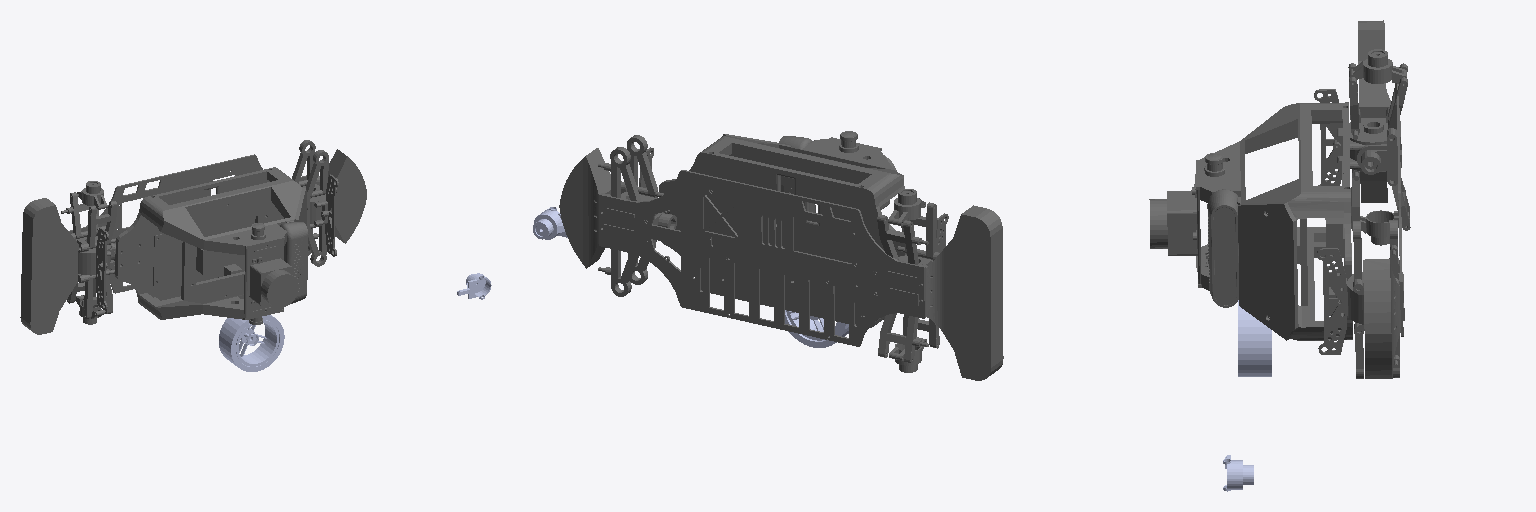
The robot description file, URDF, robot "vehicle_model":
<?xml version="1.0" encoding="utf-8"?>
<!-- This URDF was automatically created by SolidWorks to URDF Exporter! Originally created by [author] ([email redacted]) 
     Commit Version: 1.6.0-4-g7f85cfe  Build Version: 1.6.7995.38578
     For more information, please see http://wiki.ros.org/sw_urdf_exporter -->
<robot
  name="vehicle_model">
  <link
    name="base_link">
    <inertial>
      <origin
        xyz="-0.014373 0.0003891 0.017384"
        rpy="0 0 0" />
      <mass
        value="0.91719" />
      <inertia
        ixx="0.0006622"
        ixy="-2.7497E-06"
        ixz="1.2902E-05"
        iyy="0.0014944"
        iyz="3.6626E-07"
        izz="0.0018197" />
    </inertial>
    <visual>
      <origin
        xyz="0 0 0"
        rpy="0 0 0" />
      <geometry>
        <mesh
          filename="package://vehicle_model/meshes/base_link.STL" />
      </geometry>
      <material
        name="">
        <color
          rgba="0.47059 0.47059 0.47059 1" />
      </material>
    </visual>
    <collision>
      <origin
        xyz="0 0 0"
        rpy="0 0 0" />
      <geometry>
        <mesh
          filename="package://vehicle_model/meshes/base_link.STL" />
      </geometry>
    </collision>
  </link>
  <link
    name="back_wheel_left">
    <inertial>
      <origin
        xyz="1.1102E-16 -0.0055555 3.6969E-08"
        rpy="0 0 0" />
      <mass
        value="0.038543" />
      <inertia
        ixx="1.5832E-05"
        ixy="-1.9172E-21"
        ixz="2.1838E-21"
        iyy="2.7611E-05"
        iyz="-7.8379E-11"
        izz="1.5832E-05" />
    </inertial>
    <visual>
      <origin
        xyz="0 0 0"
        rpy="0 0 0" />
      <geometry>
        <mesh
          filename="package://vehicle_model/meshes/back_wheel_left.STL" />
      </geometry>
      <material
        name="">
        <color
          rgba="0.79216 0.81961 0.93333 1" />
      </material>
    </visual>
    <collision>
      <origin
        xyz="0 0 0"
        rpy="0 0 0" />
      <geometry>
        <mesh
          filename="package://vehicle_model/meshes/back_wheel_left.STL" />
      </geometry>
    </collision>
  </link>
  <joint
    name="joint_back_wheel_left"
    type="continuous">
    <origin
      xyz="-0.12828 0.083987 -0.02714"
      rpy="0 0 0" />
    <parent
      link="base_link" />
    <child
      link="back_wheel_left" />
    <axis
      xyz="0 1 0" />
    <limit
      effort="100"
      velocity="100" />
    <dynamics
      damping="0.1"
      friction="0.1" />
  </joint>
  <link
    name="back_wheel_right">
    <inertial>
      <origin
        xyz="5.5511E-17 0.0055555 3.6691E-08"
        rpy="0 0 0" />
      <mass
        value="0.038543" />
      <inertia
        ixx="1.5832E-05"
        ixy="-5.5769E-21"
        ixz="1.8661E-21"
        iyy="2.7611E-05"
        iyz="7.7791E-11"
        izz="1.5832E-05" />
    </inertial>
    <visual>
      <origin
        xyz="0 0 0"
        rpy="0 0 0" />
      <geometry>
        <mesh
          filename="package://vehicle_model/meshes/back_wheel_right.STL" />
      </geometry>
      <material
        name="">
        <color
          rgba="0.79216 0.81961 0.93333 1" />
      </material>
    </visual>
    <collision>
      <origin
        xyz="0 0 0"
        rpy="0 0 0" />
      <geometry>
        <mesh
          filename="package://vehicle_model/meshes/back_wheel_right.STL" />
      </geometry>
    </collision>
  </link>
  <joint
    name="joint_back_wheel_right"
    type="continuous">
    <origin
      xyz="-0.12828 -0.08197 -0.02714"
      rpy="0 0 0" />
    <parent
      link="base_link" />
    <child
      link="back_wheel_right" />
    <axis
      xyz="0 1 0" />
    <limit
      effort="100"
      velocity="100" />
    <dynamics
      damping="0.1"
      friction="0.1" />
  </joint>
  <link
    name="front_handle_left">
    <inertial>
      <origin
        xyz="-0.003022 0.0098208 -0.010918"
        rpy="0 0 0" />
      <mass
        value="0.0035804" />
      <inertia
        ixx="2.2725E-07"
        ixy="-8.8041E-08"
        ixz="-2.6452E-13"
        iyy="3.3018E-07"
        iyz="7.2923E-14"
        izz="3.6051E-07" />
    </inertial>
    <visual>
      <origin
        xyz="0 0 0"
        rpy="0 0 0" />
      <geometry>
        <mesh
          filename="package://vehicle_model/meshes/front_handle_left.STL" />
      </geometry>
      <material
        name="">
        <color
          rgba="0.79216 0.81961 0.93333 1" />
      </material>
    </visual>
    <collision>
      <origin
        xyz="0 0 0"
        rpy="0 0 0" />
      <geometry>
        <mesh
          filename="package://vehicle_model/meshes/front_handle_left.STL" />
      </geometry>
    </collision>
  </link>
  <joint
    name="joint_front_handle_left"
    type="revolute">
    <origin
      xyz="0.13072 0.057509 -0.010582"
      rpy="0 0 0" />
    <parent
      link="base_link" />
    <child
      link="front_handle_left" />
    <axis
      xyz="0 0 1" />
    <limit
      lower="-0.87267"
      upper="0.87267"
      effort="100"
      velocity="100" />
    <dynamics
      damping="0.1"
      friction="0.1" />
  </joint>
  <link
    name="front_wheel_left">
    <inertial>
      <origin
        xyz="1.6914E-17 -0.0064834 2.7756E-16"
        rpy="0 0 0" />
      <mass
        value="0.063174" />
      <inertia
        ixx="3.6075E-05"
        ixy="-7.3809E-21"
        ixz="-3.1764E-22"
        iyy="6.2912E-05"
        iyz="3.9705E-21"
        izz="3.6075E-05" />
    </inertial>
    <visual>
      <origin
        xyz="0 0 0"
        rpy="0 0 0" />
      <geometry>
        <mesh
          filename="package://vehicle_model/meshes/front_wheel_left.STL" />
      </geometry>
      <material
        name="">
        <color
          rgba="0.79216 0.81961 0.93333 1" />
      </material>
    </visual>
    <collision>
      <origin
        xyz="0 0 0"
        rpy="0 0 0" />
      <geometry>
        <mesh
          filename="package://vehicle_model/meshes/front_wheel_left.STL" />
      </geometry>
    </collision>
  </link>
  <joint
    name="joint_front_wheel_left"
    type="continuous">
    <origin
      xyz="0 0.026485 -0.010918"
      rpy="0 0 0" />
    <parent
      link="front_handle_left" />
    <child
      link="front_wheel_left" />
    <axis
      xyz="0 1 0" />
    <limit
      effort="100"
      velocity="100" />
    <dynamics
      damping="0.1"
      friction="0.1" />
  </joint>
  <link
    name="front_handle_right">
    <inertial>
      <origin
        xyz="-0.0030221 -0.0098209 -0.010918"
        rpy="0 0 0" />
      <mass
        value="0.0035804" />
      <inertia
        ixx="2.2725E-07"
        ixy="8.8041E-08"
        ixz="2.8912E-13"
        iyy="3.3018E-07"
        iyz="1.2676E-13"
        izz="3.6051E-07" />
    </inertial>
    <visual>
      <origin
        xyz="0 0 0"
        rpy="0 0 0" />
      <geometry>
        <mesh
          filename="package://vehicle_model/meshes/front_handle_right.STL" />
      </geometry>
      <material
        name="">
        <color
          rgba="0.79216 0.81961 0.93333 1" />
      </material>
    </visual>
    <collision>
      <origin
        xyz="0 0 0"
        rpy="0 0 0" />
      <geometry>
        <mesh
          filename="package://vehicle_model/meshes/front_handle_right.STL" />
      </geometry>
    </collision>
  </link>
  <joint
    name="joint_front_handle_right"
    type="revolute">
    <origin
      xyz="0.13072 -0.055491 -0.010582"
      rpy="0 0 0" />
    <parent
      link="base_link" />
    <child
      link="front_handle_right" />
    <axis
      xyz="0 0 1" />
    <limit
      lower="-0.87267"
      upper="0.87267"
      effort="100"
      velocity="100" />
    <dynamics
      damping="0.1"
      friction="0.1" />
  </joint>
  <link
    name="front_wheel_right">
    <inertial>
      <origin
        xyz="1.3444E-17 0.0064834 2.2204E-16"
        rpy="0 0 0" />
      <mass
        value="0.063174" />
      <inertia
        ixx="3.6075E-05"
        ixy="-9.8931E-22"
        ixz="-1.8794E-21"
        iyy="6.2912E-05"
        iyz="1.2176E-21"
        izz="3.6075E-05" />
    </inertial>
    <visual>
      <origin
        xyz="0 0 0"
        rpy="0 0 0" />
      <geometry>
        <mesh
          filename="package://vehicle_model/meshes/front_wheel_right.STL" />
      </geometry>
      <material
        name="">
        <color
          rgba="0.79216 0.81961 0.93333 1" />
      </material>
    </visual>
    <collision>
      <origin
        xyz="0 0 0"
        rpy="0 0 0" />
      <geometry>
        <mesh
          filename="package://vehicle_model/meshes/front_wheel_right.STL" />
      </geometry>
    </collision>
  </link>
  <joint
    name="joint_front_wheel_right"
    type="continuous">
    <origin
      xyz="0 -0.026485 -0.010918"
      rpy="0 0 0" />
    <parent
      link="front_handle_right" />
    <child
      link="front_wheel_right" />
    <axis
      xyz="0 1 0" />
    <limit
      effort="100"
      velocity="100" />
    <dynamics
      damping="0.1"
      friction="0.1" />
  </joint>
</robot>

--- Render facts (derived) ---
Views: 3 orthographic renders of the robot side by side, from view 1: azimuth 30°, elevation 25°; view 2: azimuth 150°, elevation 25°; view 3: azimuth 270°, elevation 25°.
Robot: vehicle_model — 7 links, 6 joints (2 revolute, 4 continuous); root link base_link; default pose: every joint at zero.
Visible links, largest first — view 1: base_link, back_wheel_left, front_handle_left; view 2: base_link, back_wheel_left, front_handle_left; view 3: base_link, back_wheel_left, front_handle_left.
Boxes of the visible links, box(x1,y1,x2,y2) form: base_link: box(20, 140, 366, 334); back_wheel_left: box(219, 315, 284, 371); front_handle_left: box(457, 273, 491, 299); base_link: box(559, 131, 1003, 380); back_wheel_left: box(785, 310, 848, 347); front_handle_left: box(533, 207, 567, 239); base_link: box(1149, 20, 1410, 378); back_wheel_left: box(1238, 300, 1271, 376); front_handle_left: box(1223, 455, 1253, 491).
Size in the robot's own frame: 0.485 by 0.194 by 0.2 metres.
Meshes: 7 distinct files referenced, 3 mesh visuals loaded (3 binary STL); not drawn: 4 (reference not matched to a file when rendering).